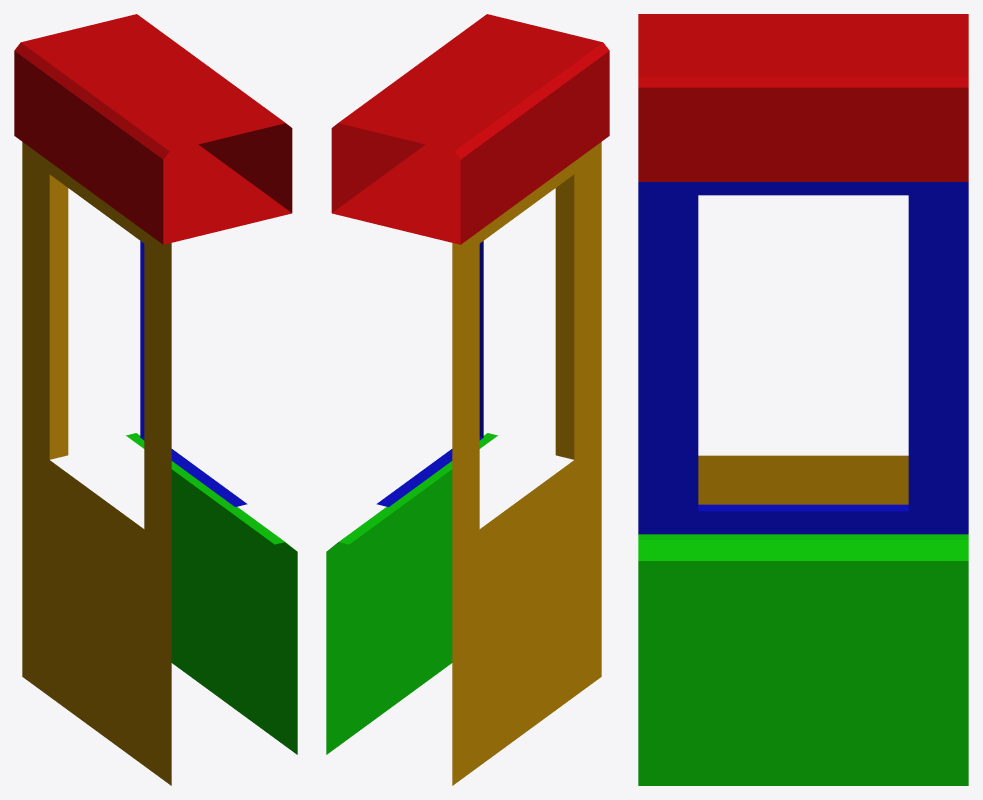
Rendered from Wall_window.fbx.
The picture shows the model from 3 angles, left to right: view 1: azimuth 30°, elevation 25°; view 2: azimuth 150°, elevation 25°; view 3: azimuth 270°, elevation 25°; orthographic projection. The views are drawn at different scales.
Visible parts, largest first — view 1: Cube.323; view 2: Cube.323; view 3: Cube.323.
Boxes of the visible parts, x1,y1,x2,y2 form: Cube.323: (14, 14, 297, 785); Cube.323: (326, 14, 609, 785); Cube.323: (638, 14, 968, 785).
Bounding box in the file's own units: 104 × 200 × 470.
